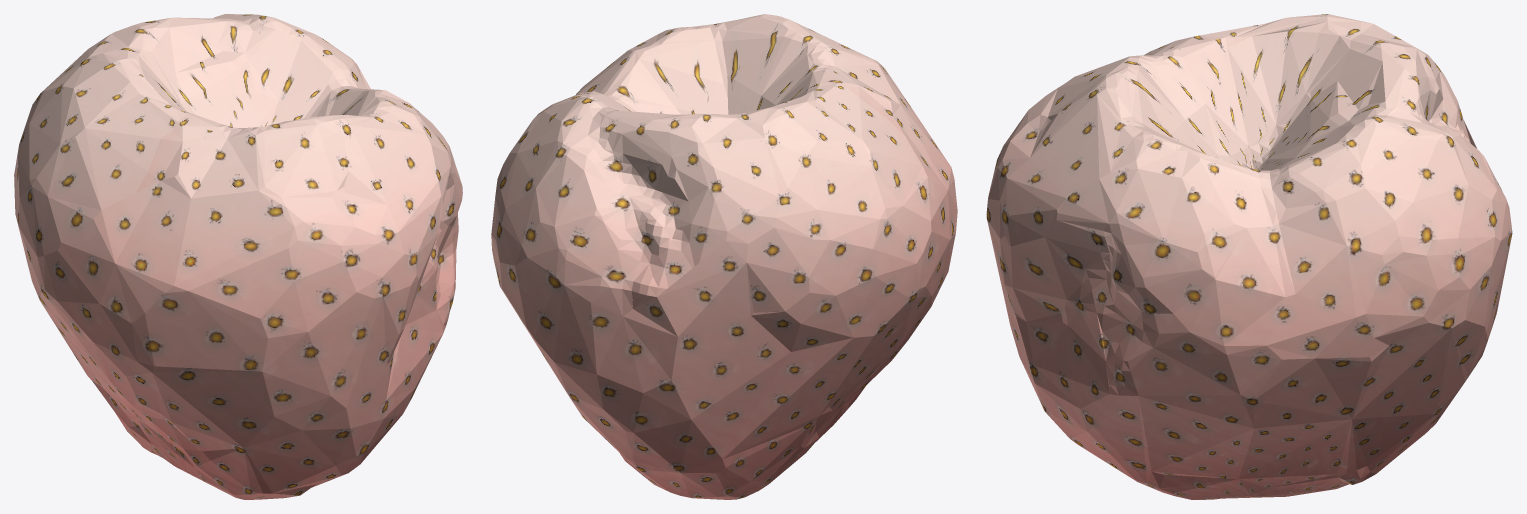
The picture shows the model from 3 angles, left to right: view 1: azimuth 30°, elevation 25°; view 2: azimuth 150°, elevation 25°; view 3: azimuth 270°, elevation 25°; orthographic projection. The views are drawn at different scales.
Visible parts, largest first — view 1: _003_Meshed; view 2: _003_Meshed; view 3: _003_Meshed.
Boxes of the visible parts, left/top/right/bottom form: _003_Meshed: left=14, top=14, right=462, bottom=499; _003_Meshed: left=491, top=14, right=957, bottom=499; _003_Meshed: left=986, top=14, right=1512, bottom=499.
Bounding box in the file's own units: 0.0971 × 0.1082 × 0.0983.
1 material, 1 textured.
